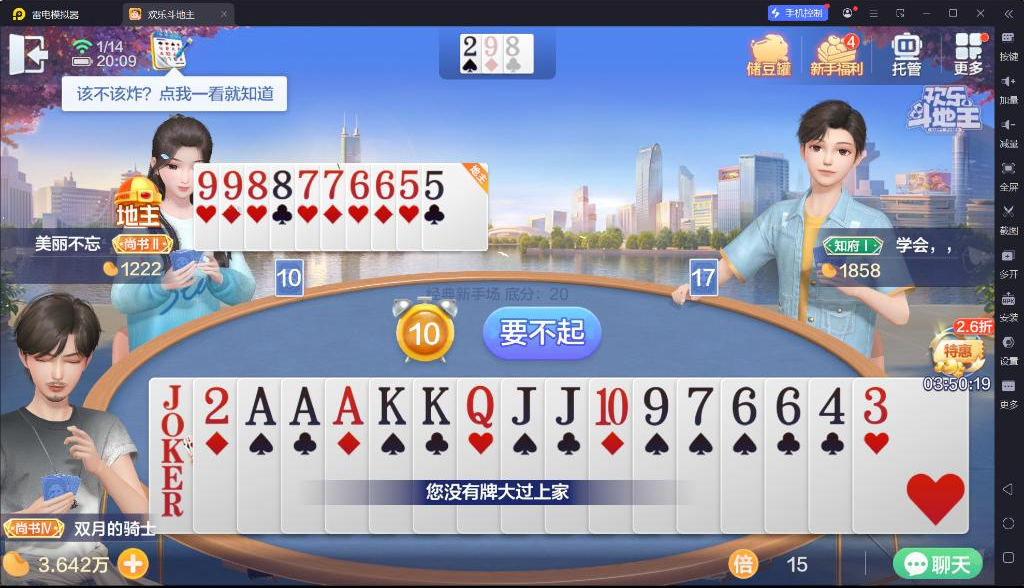A: (285, 383, 323, 429), (244, 383, 278, 429), (331, 381, 365, 427)
J: (549, 384, 583, 426), (508, 384, 538, 428)
JOKER: (153, 381, 188, 467)
K: (373, 381, 411, 427), (419, 381, 452, 427)
Q: (461, 382, 496, 429)
eight: (271, 166, 294, 201), (247, 167, 268, 201), (504, 36, 521, 57)
five: (398, 165, 420, 201), (423, 166, 445, 201)
four: (814, 384, 850, 427)
nine: (639, 384, 669, 428), (195, 168, 218, 202), (221, 169, 242, 201), (483, 35, 500, 57)
seven: (681, 380, 715, 428), (297, 166, 319, 200), (322, 167, 344, 201)
six: (770, 383, 804, 429), (728, 383, 758, 429), (374, 166, 397, 201), (348, 166, 370, 201)
ten: (593, 384, 631, 427)
three: (856, 381, 890, 427)
two: (201, 383, 231, 427), (460, 35, 478, 57)
